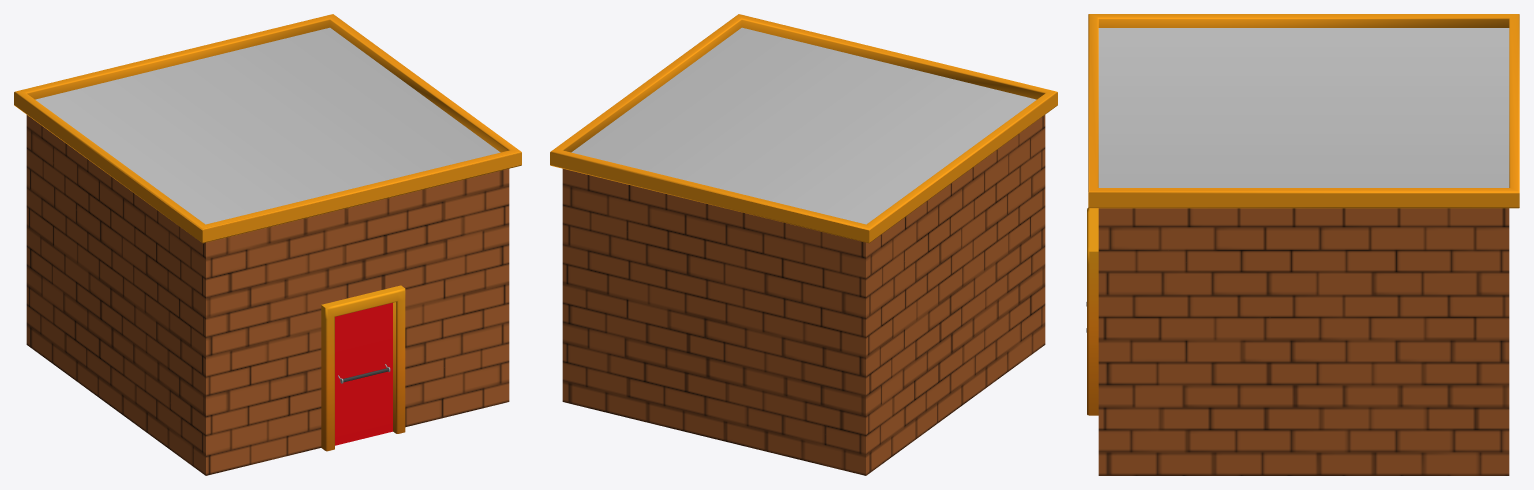
The model's file is SM_House.fbx.
3 renders of one model, left to right at view 1: azimuth 30°, elevation 25°; view 2: azimuth 150°, elevation 25°; view 3: azimuth 270°, elevation 25°, orthographic. The views are drawn at different scales.
Parts seen in each view (by area): view 1: SM_House; view 2: SM_House; view 3: SM_House.
Boxes of the visible parts, bbox=[...] form: SM_House: bbox=[14, 14, 521, 475]; SM_House: bbox=[550, 14, 1057, 475]; SM_House: bbox=[1086, 14, 1519, 475].
Bounding box in the file's own units: 8 × 6.03 × 8.22.
1 material, 1 textured.
